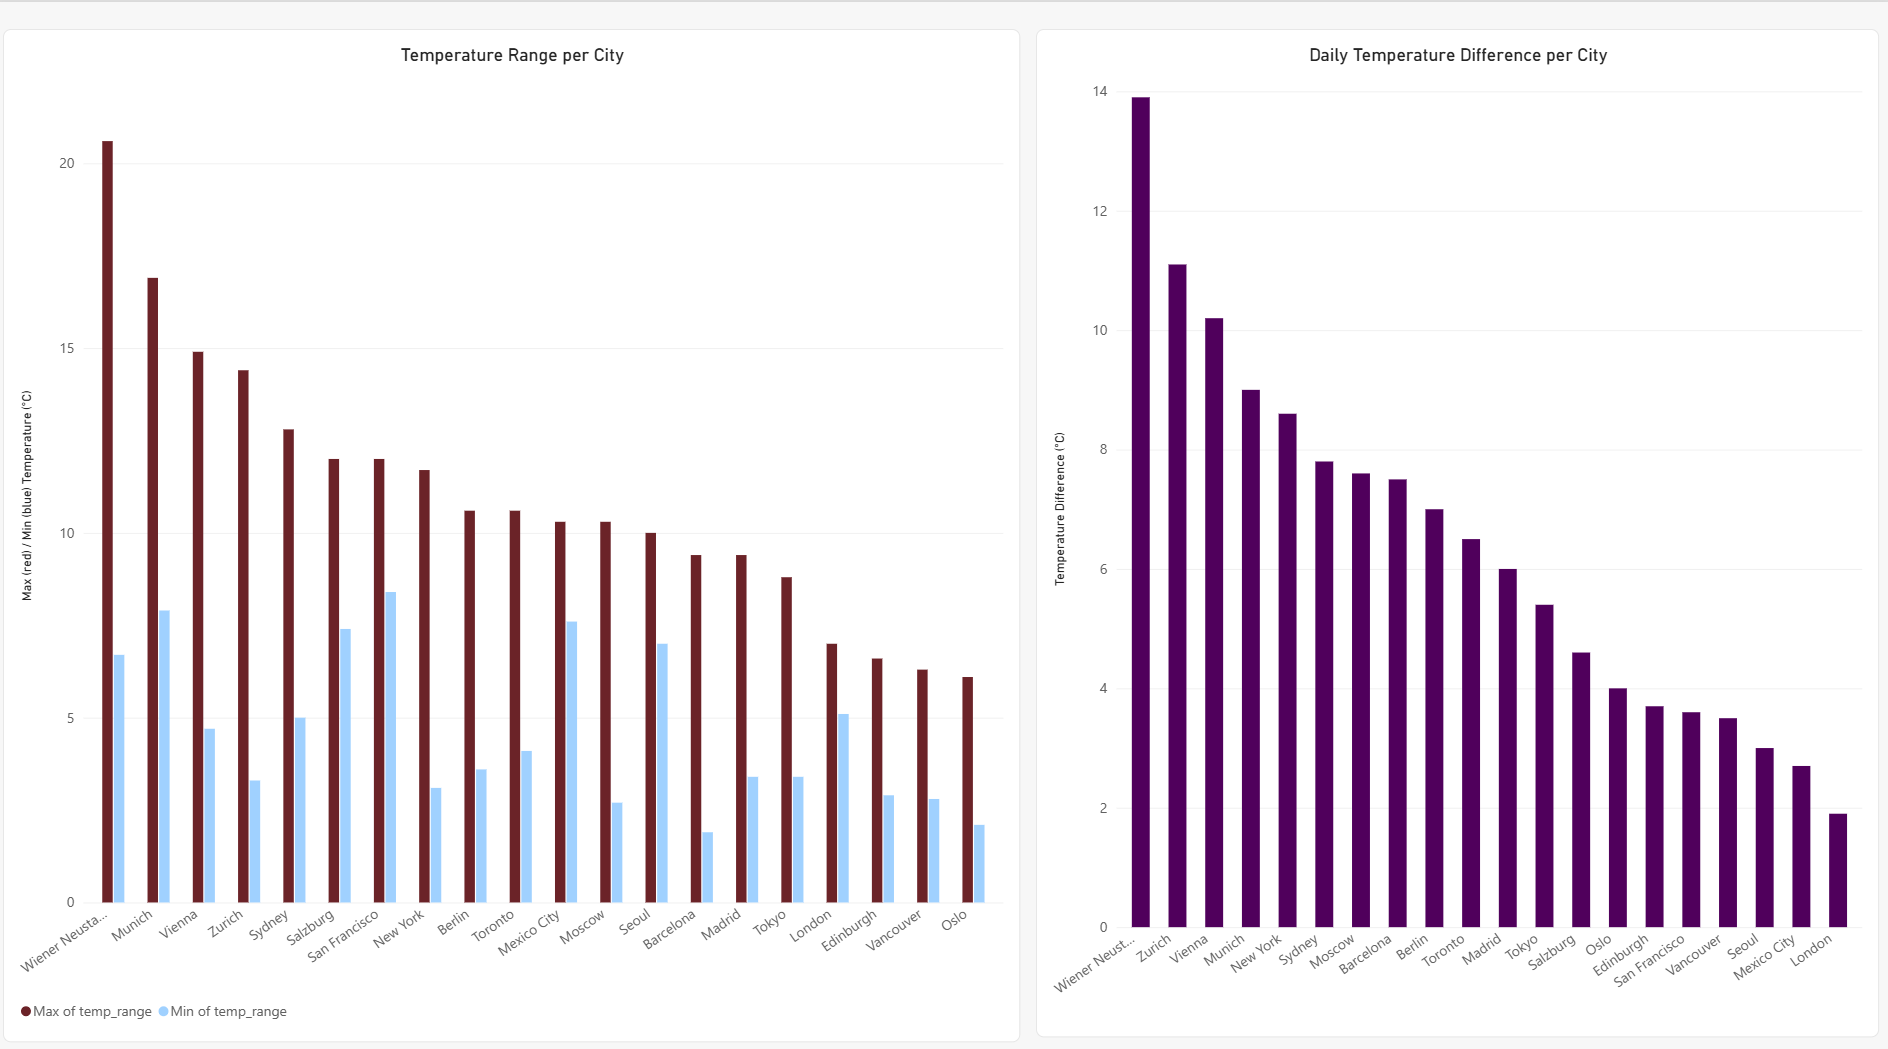

The dashboard page shown, as its layout file describes it:
{"tool":"powerbi","page":{"name":"Temp_Diff","canvas":[1920,1080],"ordinal":3},"visuals":[{"type":"clusteredColumnChart","title":"Temperature Range per City ","fields":{"Category":["gold_weather_analytics.city"],"Y":["Max(gold_weather_analytics.temp_range)","Min(gold_weather_analytics.temp_range)"]},"box":[12.1,27.3,1027.7,1023.7],"z":0},{"type":"clusteredColumnChart","title":"Daily Temperature Difference per City","fields":{"Category":["gold_weather_analytics.city"],"Y":["gold_weather_analytics.temp_diff"]},"box":[1056,27.3,851.9,1018.6],"z":1}]}

Visuals, with their boxes in screenshot pixels (x1, y1, x2, y2), scaled from the page's 1920x1080 canvas onto the 1888x1049 screenshot:
"Temperature Range per City " clusteredColumnChart: rect(12, 27, 1022, 1021)
"Daily Temperature Difference per City" clusteredColumnChart: rect(1038, 27, 1876, 1016)
